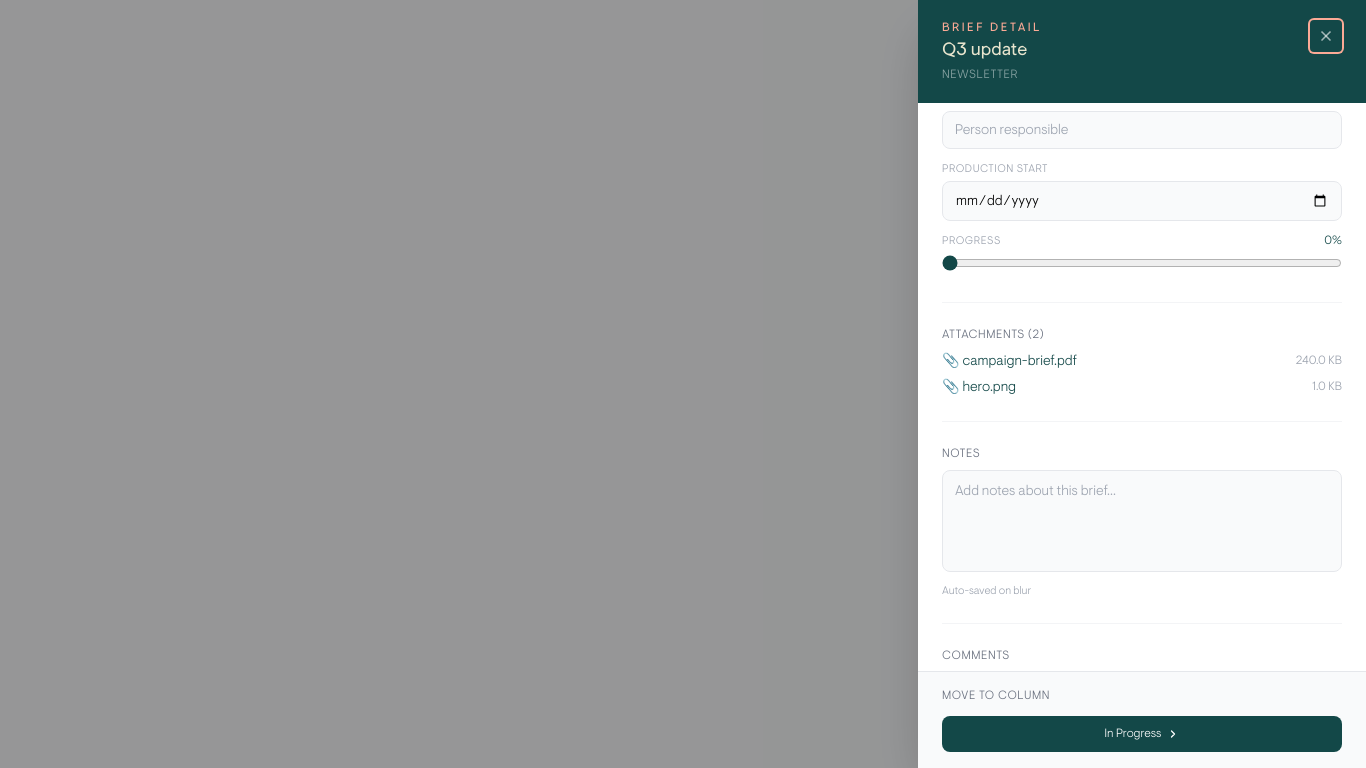
Test case: card drawer attachments › says so when a file cannot be opened
(page scrolled)
Click the button with aria-label "Download hero.png". click: (979, 386)
box: [942,376,1016,396]
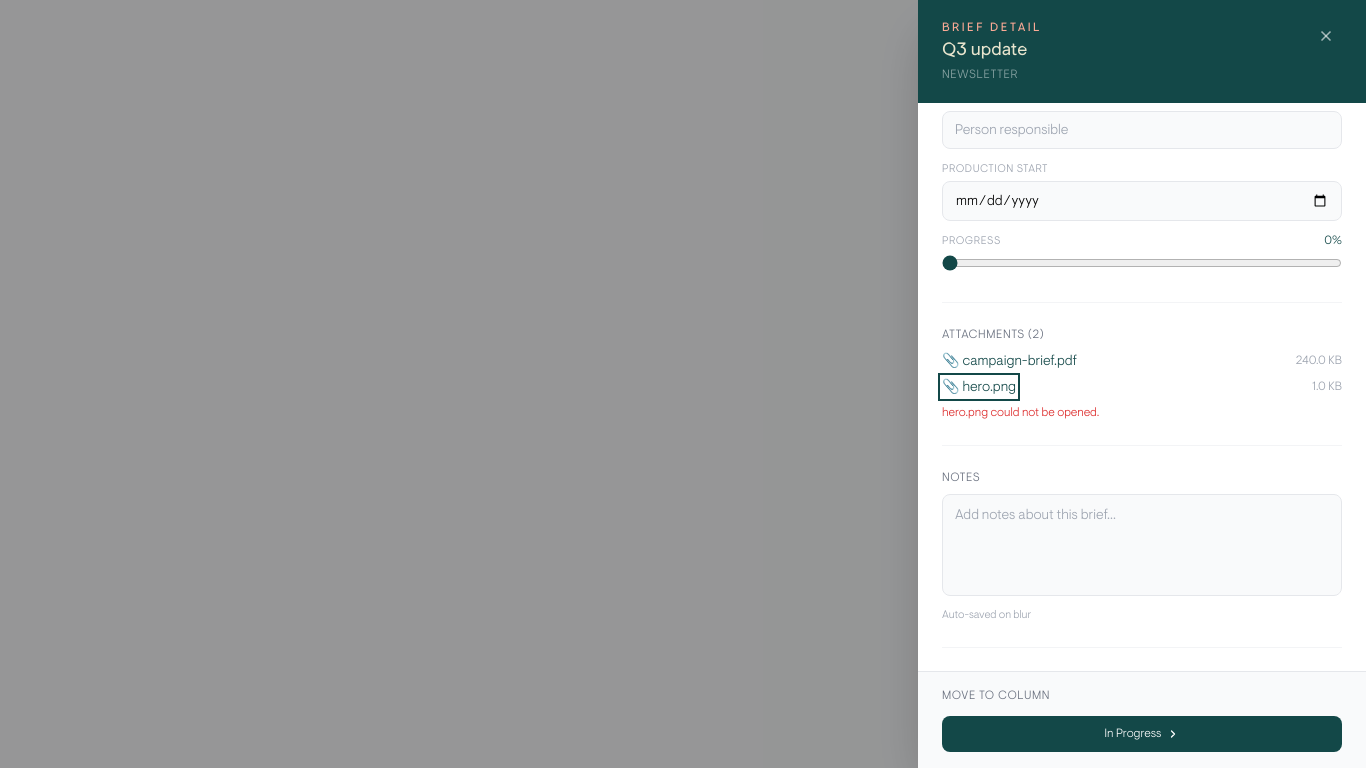
Now the message reads "hero.png could not be opened.", box [942,404,1099,420]
